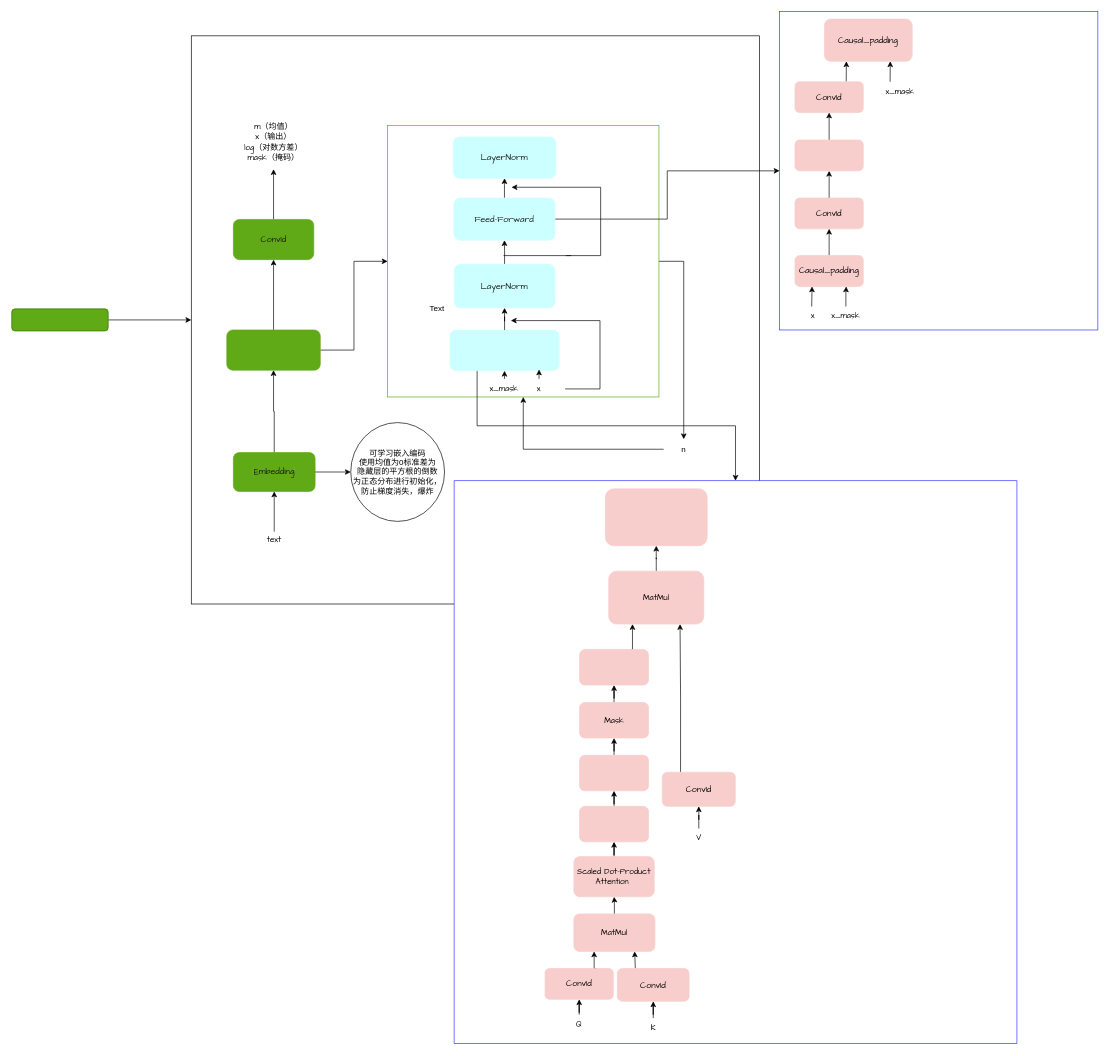
Some shapes in this 1110 by 1056 pixel diagram are drawn without their labels. The shapes that lost their labels are listed below. From the top down, each one's centre as x and y in pixels, then its label:
At point (828, 155): "Gelu".
At point (59, 319): "TextEncoder".
At point (273, 349): "attentions . Encoder".
At point (504, 350): "MultiHeadAttention".
At point (656, 517): "Relative weight".
At point (614, 667): "Softmax".
At point (614, 773): "Proximal bias".
At point (614, 824): "Relative attention".
